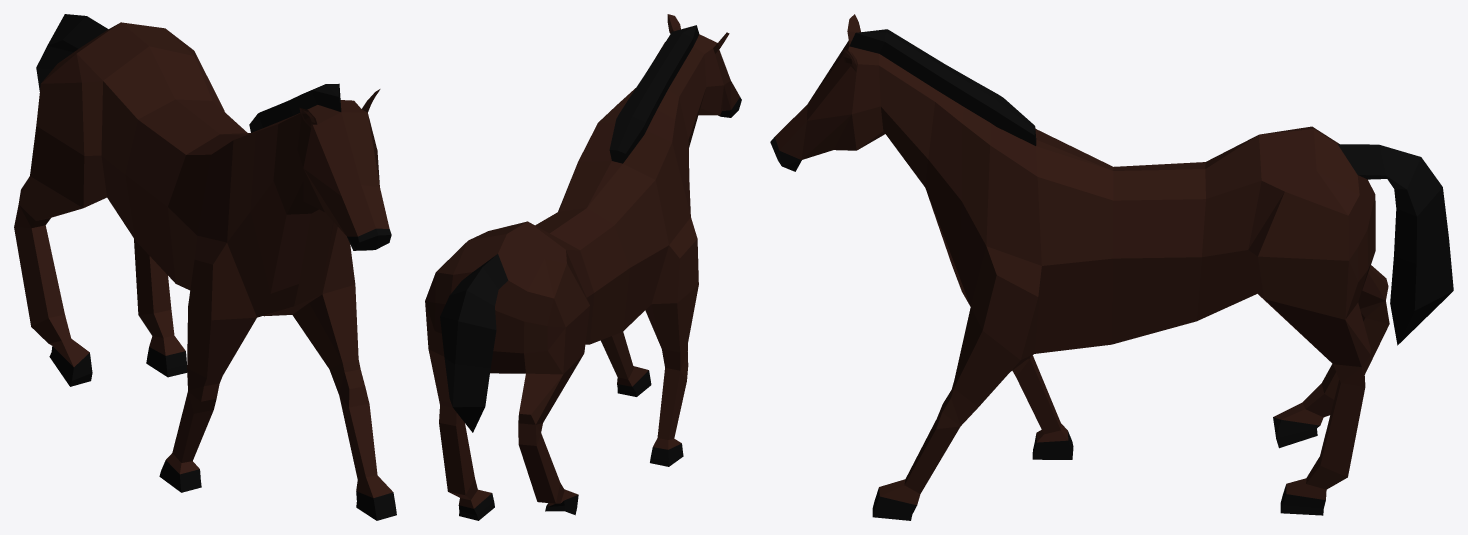
The model's file is Horse_000029.obj.
3 renders of one model, left to right at view 1: azimuth 30°, elevation 25°; view 2: azimuth 150°, elevation 25°; view 3: azimuth 270°, elevation 25°, orthographic. The views are drawn at different scales.
Visible parts, largest first — view 1: Horse_Cylinder; view 2: Horse_Cylinder; view 3: Horse_Cylinder.
Boxes of the visible parts, x1,y1,x2,y2 form: Horse_Cylinder: (14,14,396,520); Horse_Cylinder: (425,14,741,520); Horse_Cylinder: (770,14,1453,520).
Bounding box in the file's own units: 2.56 × 6.73 × 9.16.
